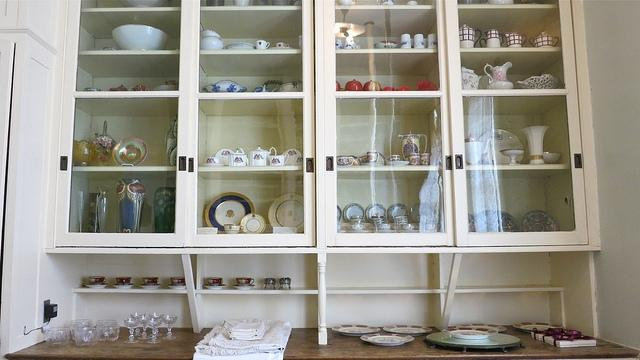apple: (344, 79, 362, 91), (364, 80, 379, 91), (382, 86, 396, 90), (336, 81, 340, 91)
